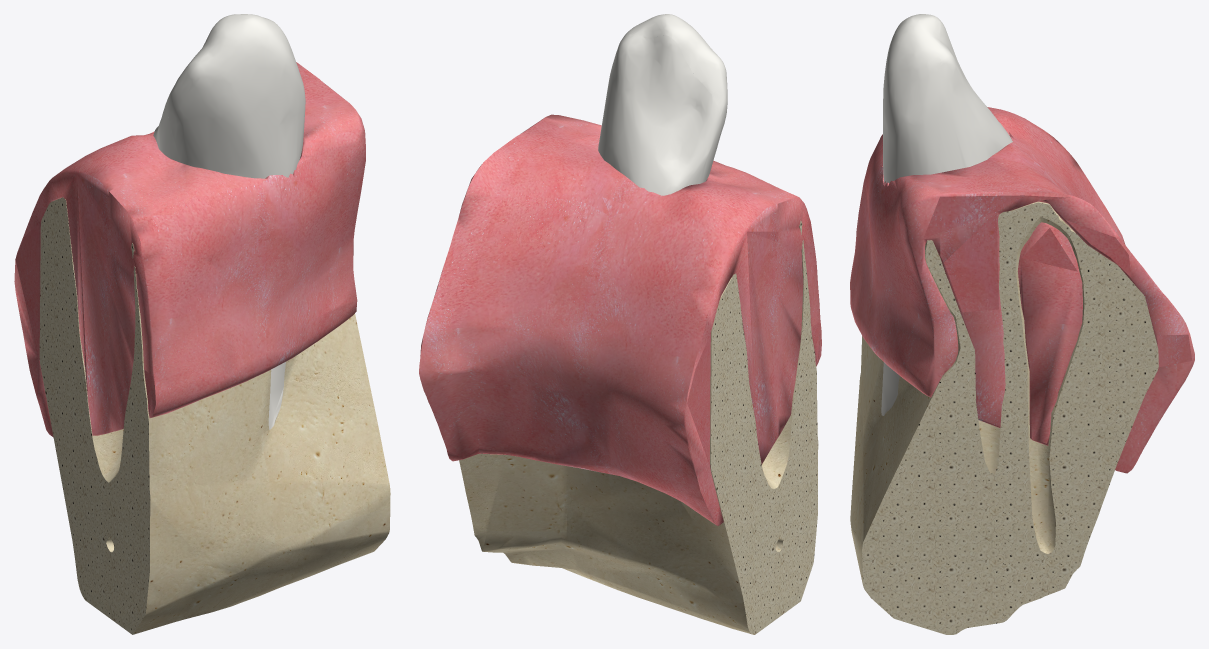
3 views of the same model, side by side, from view 1: azimuth 30°, elevation 25°; view 2: azimuth 150°, elevation 25°; view 3: azimuth 270°, elevation 25° (orthographic). The views are drawn at different scales.
Visible parts, largest first — view 1: kompakta_b, gingiva_b, schmelz_b, gingiva_a, kompakta_a, schmelz_a, lamina_dura_b; view 2: gingiva_a, kompakta_a, schmelz_a, kompakta_b, gingiva_b, schmelz_b; view 3: kompakta_a, gingiva_a, kompakta_b, gingiva_b, schmelz_b, schmelz_a, lamina_dura_b.
Part boxes in pixels (x1,y1,x2,y2): kompakta_b: [109, 243, 390, 634]; gingiva_b: [109, 103, 365, 432]; schmelz_b: [167, 14, 305, 178]; gingiva_a: [14, 62, 348, 437]; kompakta_a: [39, 197, 123, 617]; schmelz_a: [153, 92, 180, 162]; lamina_dura_b: [268, 362, 285, 429]; gingiva_a: [419, 117, 778, 525]; kompakta_a: [459, 273, 778, 634]; schmelz_a: [598, 34, 721, 195]; kompakta_b: [762, 221, 818, 617]; gingiva_b: [545, 114, 821, 436]; schmelz_b: [622, 14, 727, 171]; kompakta_a: [940, 201, 1158, 634]; gingiva_a: [940, 107, 1194, 473]; kompakta_b: [850, 240, 940, 632]; gingiva_b: [850, 134, 940, 397]; schmelz_b: [883, 14, 940, 183]; schmelz_a: [940, 20, 1012, 172]; lamina_dura_b: [881, 362, 899, 415].
Bounding box in the file's own units: 0.0145 × 0.0333 × 0.0183.
21 materials, 8 textured.
